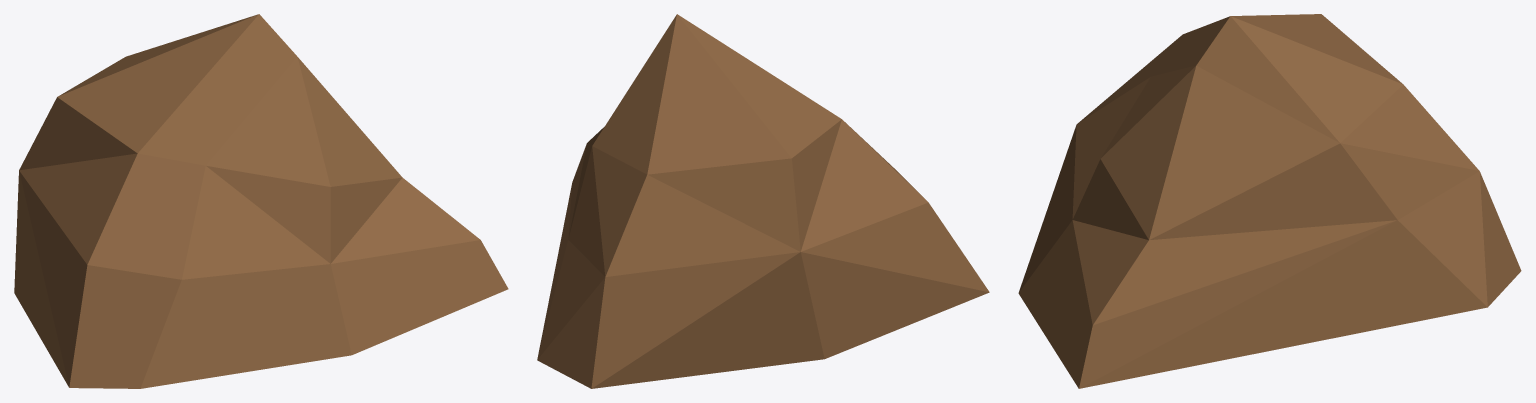
The model's file is Rock_8_Light_Brown.fbx.
3 renders of one model, left to right at view 1: azimuth 30°, elevation 25°; view 2: azimuth 150°, elevation 25°; view 3: azimuth 270°, elevation 25°, orthographic. The views are drawn at different scales.
Visible parts, largest first — view 1: Rock_8_Light_Brown; view 2: Rock_8_Light_Brown; view 3: Rock_8_Light_Brown.
Part boxes in pixels (left/top/right/bottom): Rock_8_Light_Brown: left=14, top=14, right=508, bottom=388; Rock_8_Light_Brown: left=537, top=14, right=989, bottom=388; Rock_8_Light_Brown: left=1018, top=14, right=1521, bottom=388.
Bounding box in the file's own units: 232 × 137 × 222.
